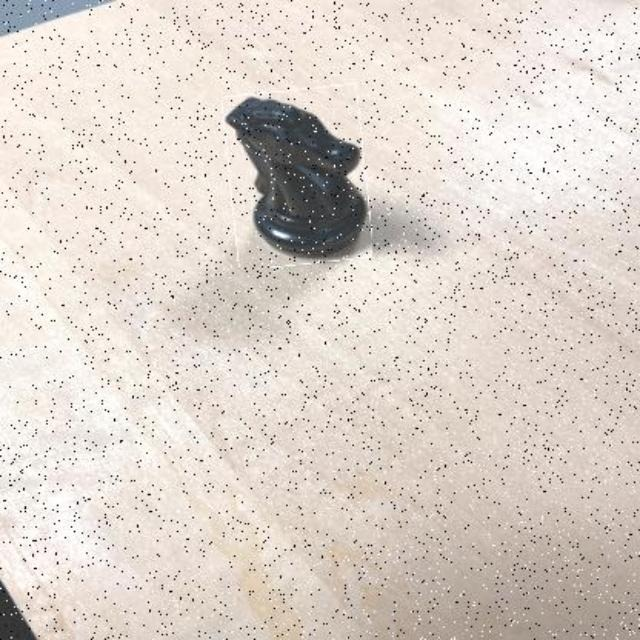black-knight: (226, 86, 370, 266)
